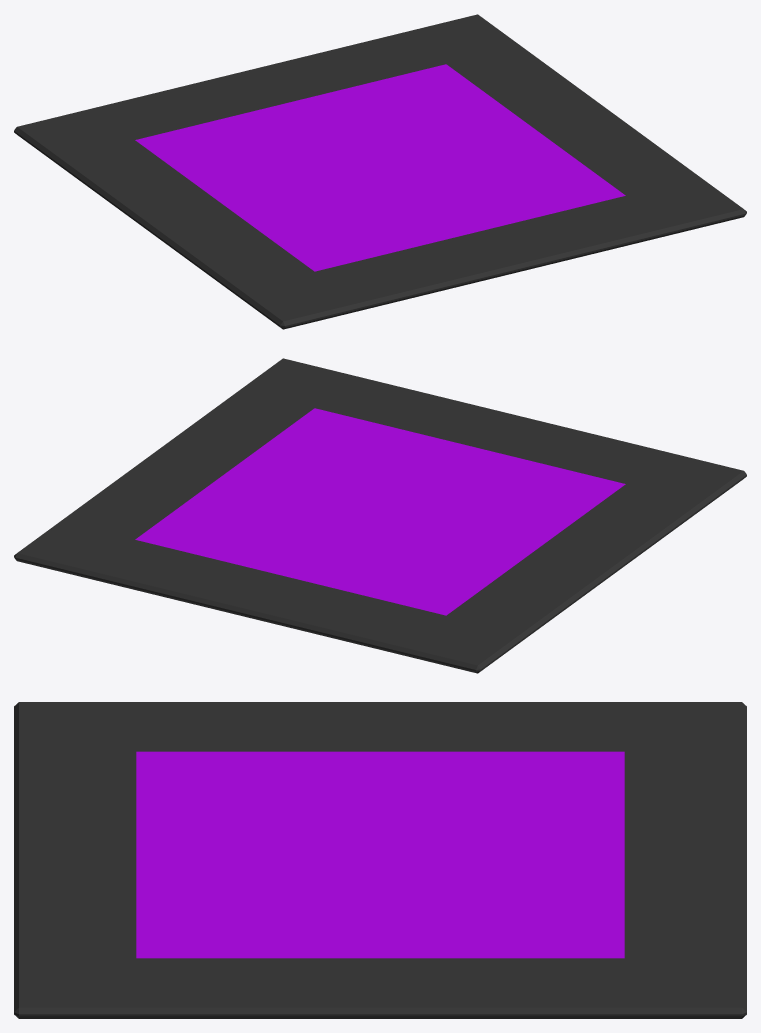
Rendered from p4-start.glb.
3 views of the same model, one above another, from view 1: azimuth 30°, elevation 25°; view 2: azimuth 150°, elevation 25°; view 3: azimuth 270°, elevation 25° (orthographic). The views are drawn at different scales.
Parts seen in each view (by area): view 1: Plane; view 2: Plane; view 3: Plane.
Part boxes in pixels (x1,y1,x2,y2): Plane: [14, 14, 746, 329]; Plane: [14, 358, 746, 673]; Plane: [14, 702, 746, 1018].
Bounding box in the file's own units: 6 × 0.1 × 6.
